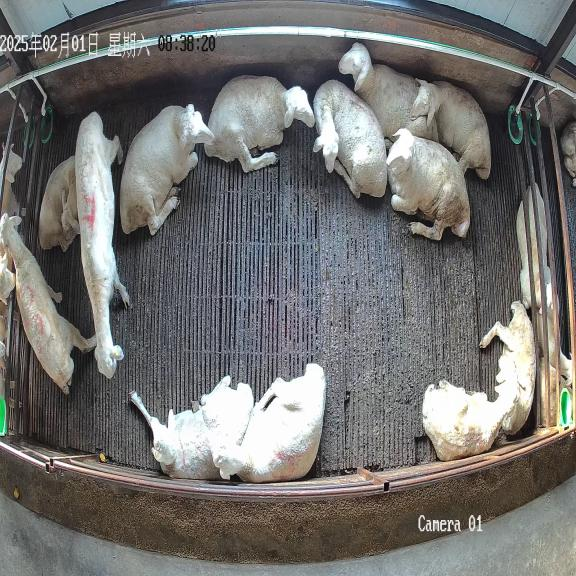lying: (216, 363, 325, 483), (130, 376, 254, 480), (120, 104, 215, 235), (204, 75, 315, 172), (339, 43, 439, 141), (387, 128, 470, 240), (313, 80, 387, 197), (411, 79, 491, 179), (422, 380, 518, 461), (479, 302, 536, 435), (39, 155, 80, 250)
stand: (0, 215, 96, 394), (75, 112, 129, 378)
